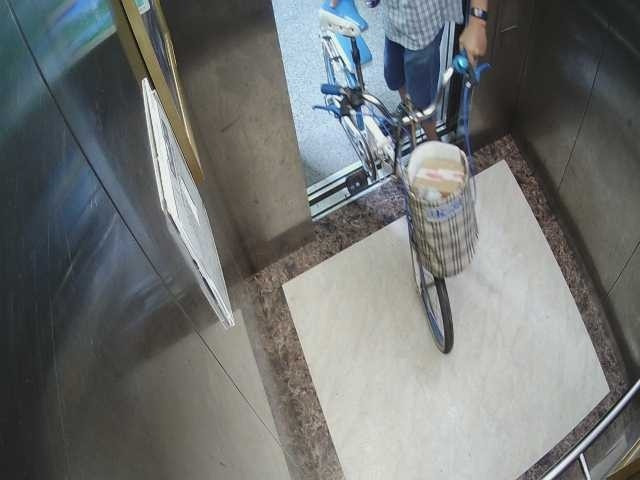bicycle: (308, 9, 489, 348)
